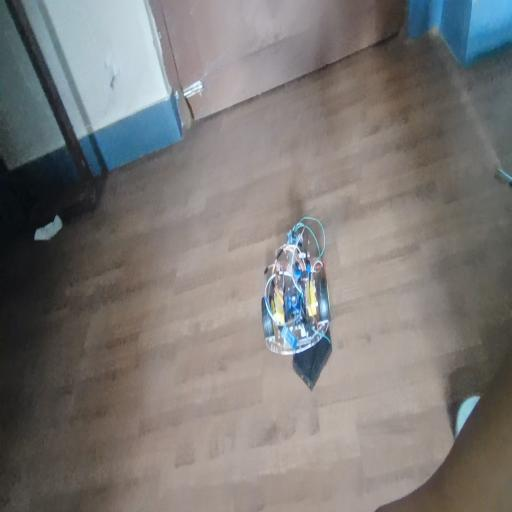car: (249, 240, 362, 399)
